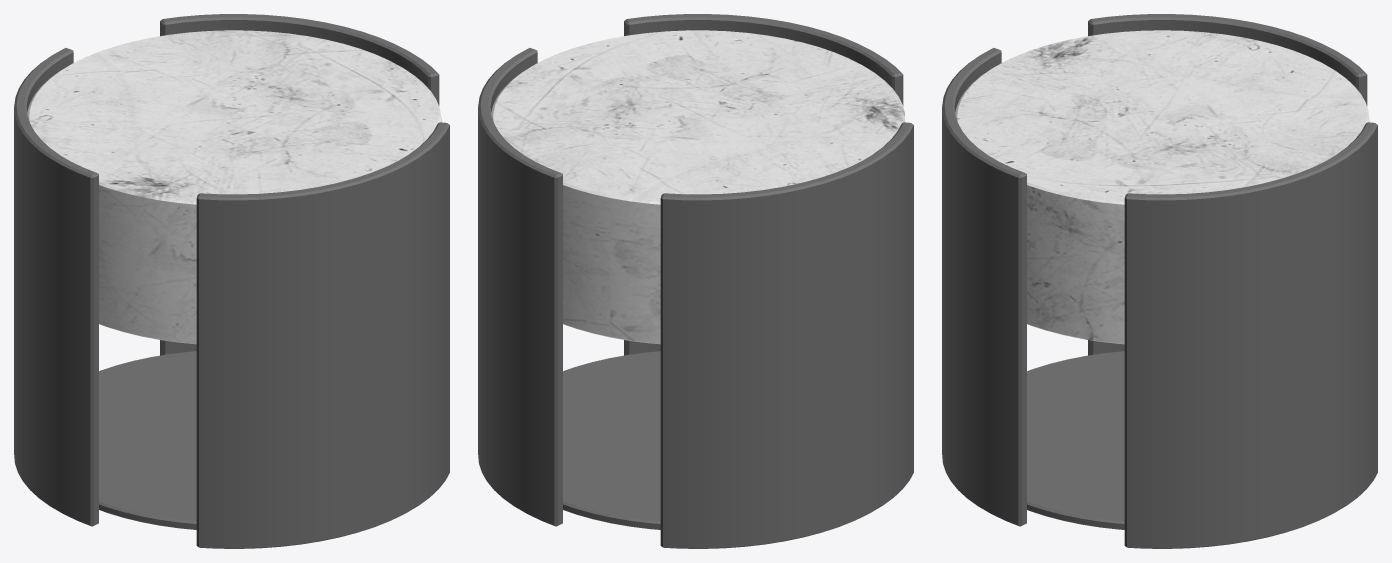
File: nightstand2.glb
3 renders of one model, left to right at view 1: azimuth 30°, elevation 25°; view 2: azimuth 150°, elevation 25°; view 3: azimuth 270°, elevation 25°, orthographic.
Parts seen in each view (by area): view 1: 床头柜08; view 2: 床头柜08; view 3: 床头柜08.
Boxes of the visible parts, x1,y1,x2,y2 form: 床头柜08: (14,14,449,548); 床头柜08: (478,14,913,548); 床头柜08: (942,14,1377,548).
Size of the model in its own units: 0.5382 by 0.4747 by 0.5336.
2 materials, 1 textured.
